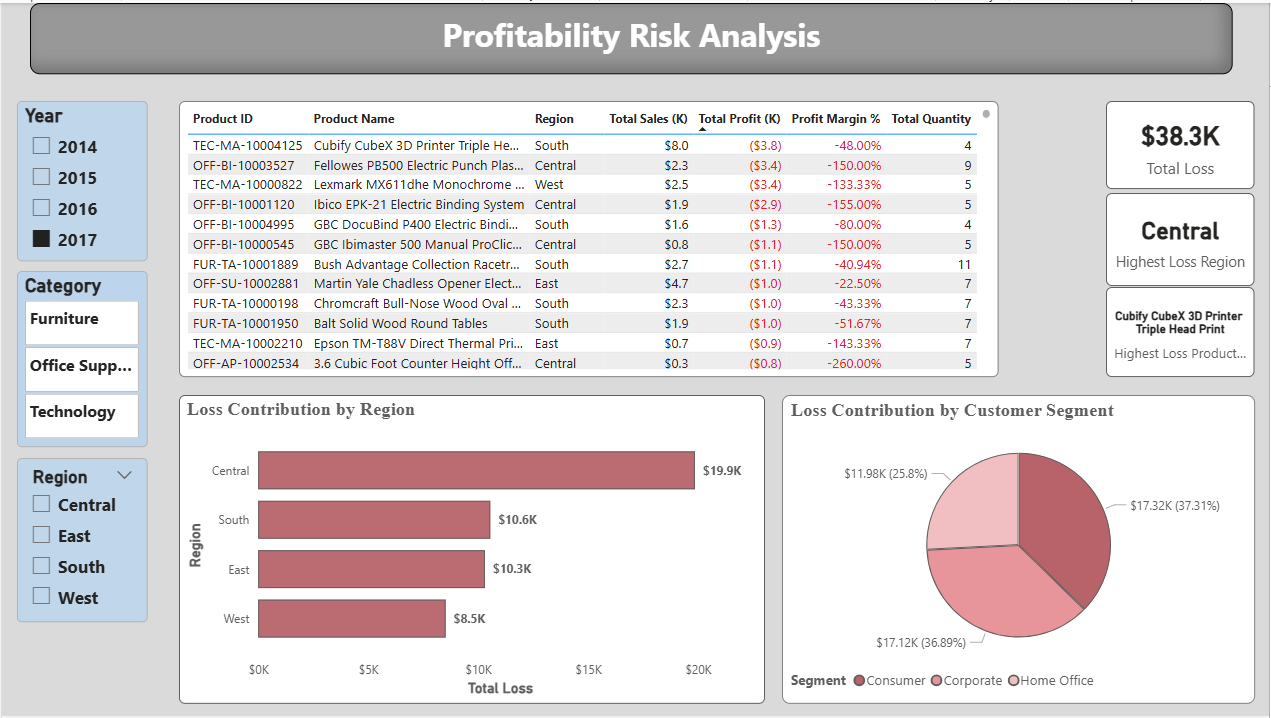

The dashboard page shown, as its layout file describes it:
{"tool":"powerbi","page":{"name":"Profitability Risk Analysis","canvas":[1280,720],"ordinal":6},"visuals":[{"type":"slicer","title":"Year","fields":{"Values":["Calendar.Year"]},"box":[15.2,99.5,132,162.4],"z":0},{"type":"advancedSlicerVisual","fields":{"Values":["Dim_Product.Category"]},"box":[15.2,271,132,177.6],"z":1},{"type":"slicer","fields":{"Values":["Dim_Geography.Region"]},"box":[15.2,459.8,132,166.5],"z":2},{"type":"tableEx","fields":{"Values":["Dim_Product.Product ID","Dim_Product.Product Name","Dim_Geography.Region","All Measures.Total Sales (K)","All Measures.Total Profit (K)","All Measures.Profit Margin %","All Measures.Total Quantity"]},"box":[178.7,99.5,828.3,279.1],"z":3},{"type":"clusteredBarChart","title":"Loss Contribution by Region","fields":{"Category":["Dim_Geography.Region"],"Y":["All Measures.Absolute Loss"]},"box":[178.7,395.9,591.8,311.6],"z":4},{"type":"pieChart","title":" Loss Contribution by Customer Segment","fields":{"Category":["Dim_Customer.Segment"],"Y":["All Measures.Absolute Loss"]},"box":[787.7,395.9,478.1,311.6],"z":5},{"type":"card","fields":{"Values":["All Measures.Absolute Loss"]},"box":[1115.6,99.5,150.2,89.3],"z":6},{"type":"card","fields":{"Values":["All Measures.Highest Loss Product Name"]},"box":[1115.6,287.3,150.2,91.4],"z":7},{"type":"card","fields":{"Values":["All Measures.Highest Loss Region"]},"box":[1115.6,191.8,150.2,94.4],"z":8},{"type":"textbox","box":[28.4,0,1215,72.1],"z":9}]}

Visuals, with their boxes in screenshot pixels (x1, y1, x2, y2), scaled from the page's 1280x720 canvas onto the 1271x718 screenshot:
"Year" slicer: box=[15, 99, 146, 261]
advancedSlicerVisual - Dim_Product.Category: box=[15, 270, 146, 447]
slicer - Dim_Geography.Region: box=[15, 459, 146, 625]
tableEx - Dim_Product.Product ID x Dim_Product.Product Name: box=[177, 99, 1000, 378]
"Loss Contribution by Region" clusteredBarChart: box=[177, 395, 765, 706]
" Loss Contribution by Customer Segment" pieChart: box=[782, 395, 1257, 706]
card - All Measures.Absolute Loss: box=[1108, 99, 1257, 188]
card - All Measures.Highest Loss Product Name: box=[1108, 287, 1257, 378]
card - All Measures.Highest Loss Region: box=[1108, 191, 1257, 285]
textbox: box=[28, 0, 1235, 72]
